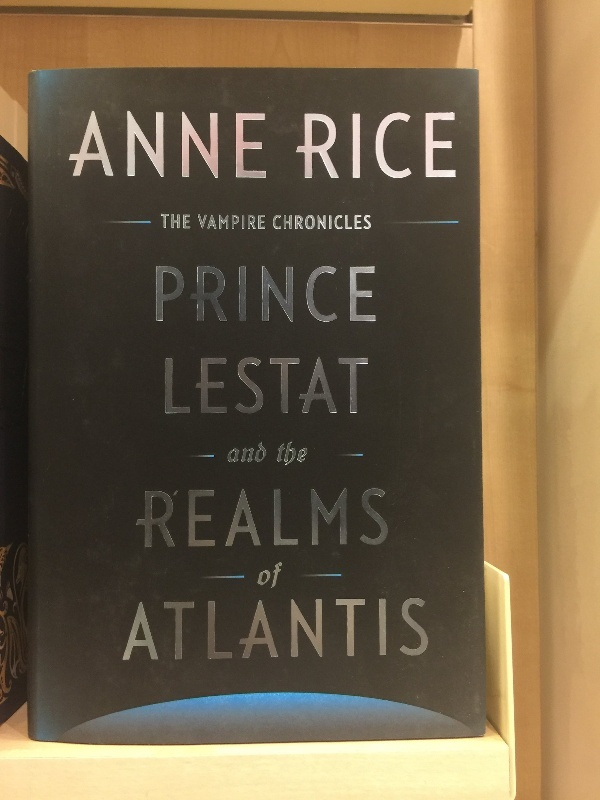text: (97, 110, 112, 182), (113, 110, 128, 182), (129, 110, 144, 182), (145, 110, 160, 182), (161, 110, 176, 182), (177, 110, 192, 182), (193, 110, 208, 182), (209, 110, 224, 182), (225, 110, 240, 182), (241, 110, 256, 182), (305, 113, 320, 180), (321, 113, 336, 180), (337, 113, 352, 180), (353, 113, 368, 180), (369, 113, 384, 180), (385, 113, 400, 180), (401, 113, 416, 180), (417, 113, 432, 180), (433, 113, 448, 180), (145, 597, 160, 662), (161, 597, 176, 662), (177, 597, 192, 662), (193, 597, 208, 662), (209, 597, 224, 662), (225, 597, 240, 662), (241, 597, 256, 662), (257, 597, 272, 662), (273, 597, 288, 662), (289, 597, 304, 662), (305, 597, 320, 662), (321, 597, 336, 662), (337, 597, 352, 662), (353, 597, 368, 662), (369, 597, 384, 662), (385, 597, 400, 662), (401, 597, 416, 662), (161, 489, 176, 550), (177, 489, 192, 550), (193, 489, 208, 550), (209, 489, 224, 550), (225, 489, 240, 550), (241, 489, 256, 550), (257, 489, 272, 550), (273, 489, 288, 550), (289, 489, 304, 550), (305, 489, 320, 550), (321, 489, 336, 550), (337, 489, 352, 550), (353, 489, 368, 550), (369, 489, 384, 550), (161, 266, 176, 324), (177, 266, 192, 324), (193, 266, 208, 324), (209, 266, 224, 324), (225, 266, 240, 324), (241, 266, 256, 324), (257, 266, 272, 324), (273, 266, 288, 324), (289, 266, 304, 324), (305, 266, 320, 324), (321, 266, 336, 324), (337, 266, 352, 324), (353, 266, 368, 324), (177, 358, 192, 415), (193, 358, 208, 415), (209, 358, 224, 415), (225, 358, 240, 415), (241, 358, 256, 415), (257, 358, 272, 415), (273, 358, 288, 415), (289, 358, 304, 415), (305, 358, 320, 415), (321, 358, 336, 415), (337, 358, 352, 415), (353, 358, 368, 415), (146, 489, 160, 550), (417, 597, 430, 662), (257, 110, 267, 182), (165, 358, 176, 415), (449, 113, 456, 180), (369, 266, 377, 324), (289, 440, 304, 467), (241, 441, 256, 463), (257, 441, 271, 463), (261, 561, 272, 589), (273, 561, 284, 589), (385, 489, 390, 550), (140, 597, 144, 662), (279, 440, 288, 467), (161, 214, 176, 230), (209, 215, 224, 230), (225, 215, 240, 230), (241, 215, 256, 230), (273, 215, 288, 230), (289, 215, 304, 230), (305, 215, 320, 230), (321, 215, 336, 230), (337, 215, 352, 230), (353, 215, 368, 230), (177, 214, 191, 230), (93, 110, 96, 182), (232, 441, 240, 463), (157, 266, 160, 324), (198, 215, 208, 230), (257, 215, 266, 230), (305, 440, 309, 467), (369, 358, 370, 415), (369, 215, 372, 230), (270, 215, 272, 230)
